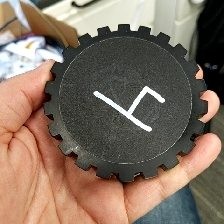gear: (42, 22, 209, 184)
